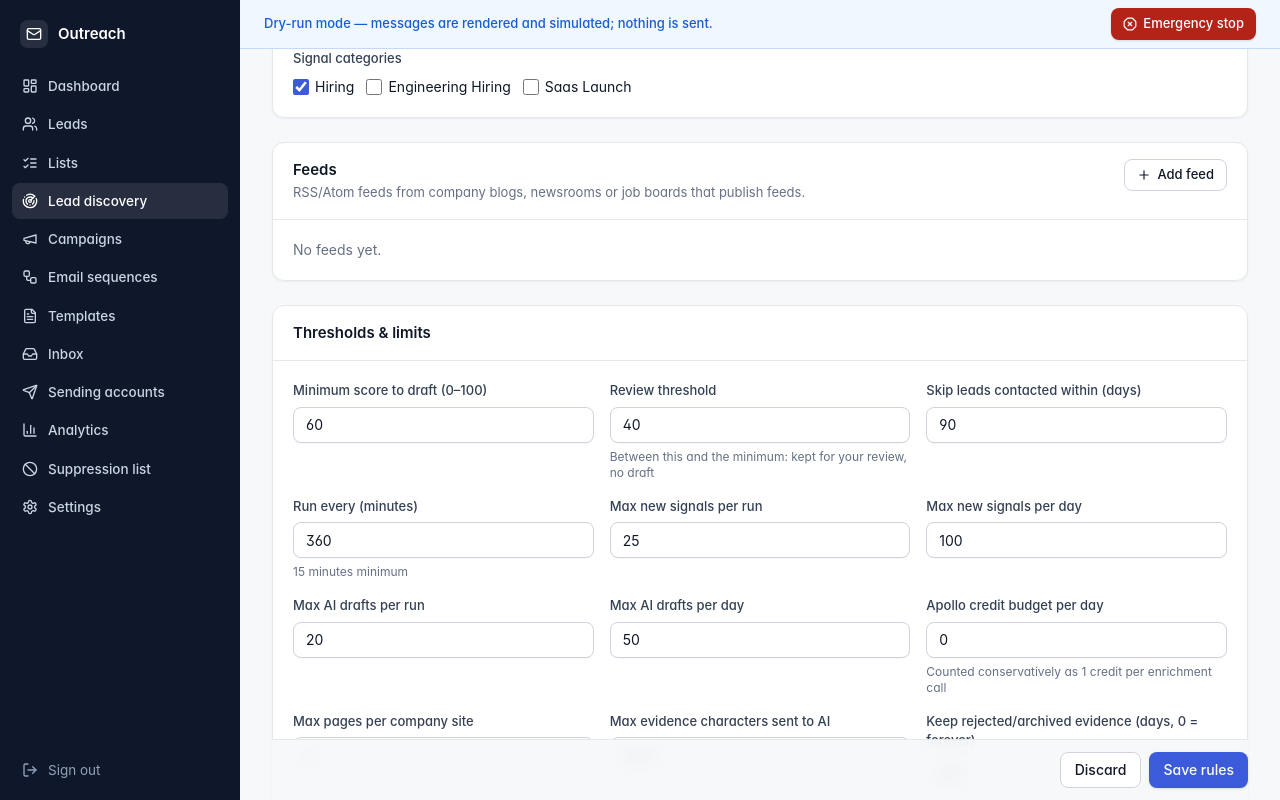
Test case: lead discovery › validates rules before saving
The width and height of the screenshot is (1280, 800).
(page scrolled)
Replace the text in the number field labelled "Minimum score to draft (0–100)" with "20" at (443, 425), box [293,407,594,443]
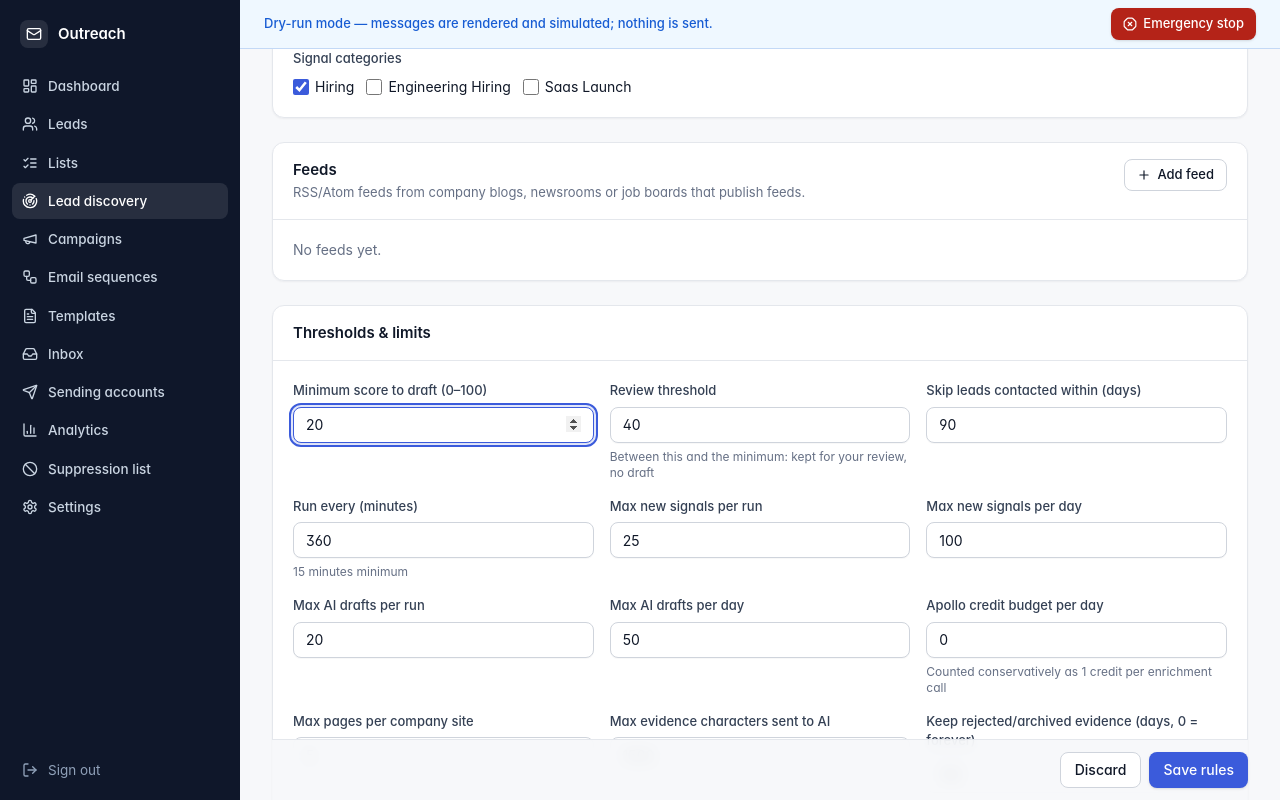
Click the button "Save rules" at (1199, 770), box [1149,752,1248,788]
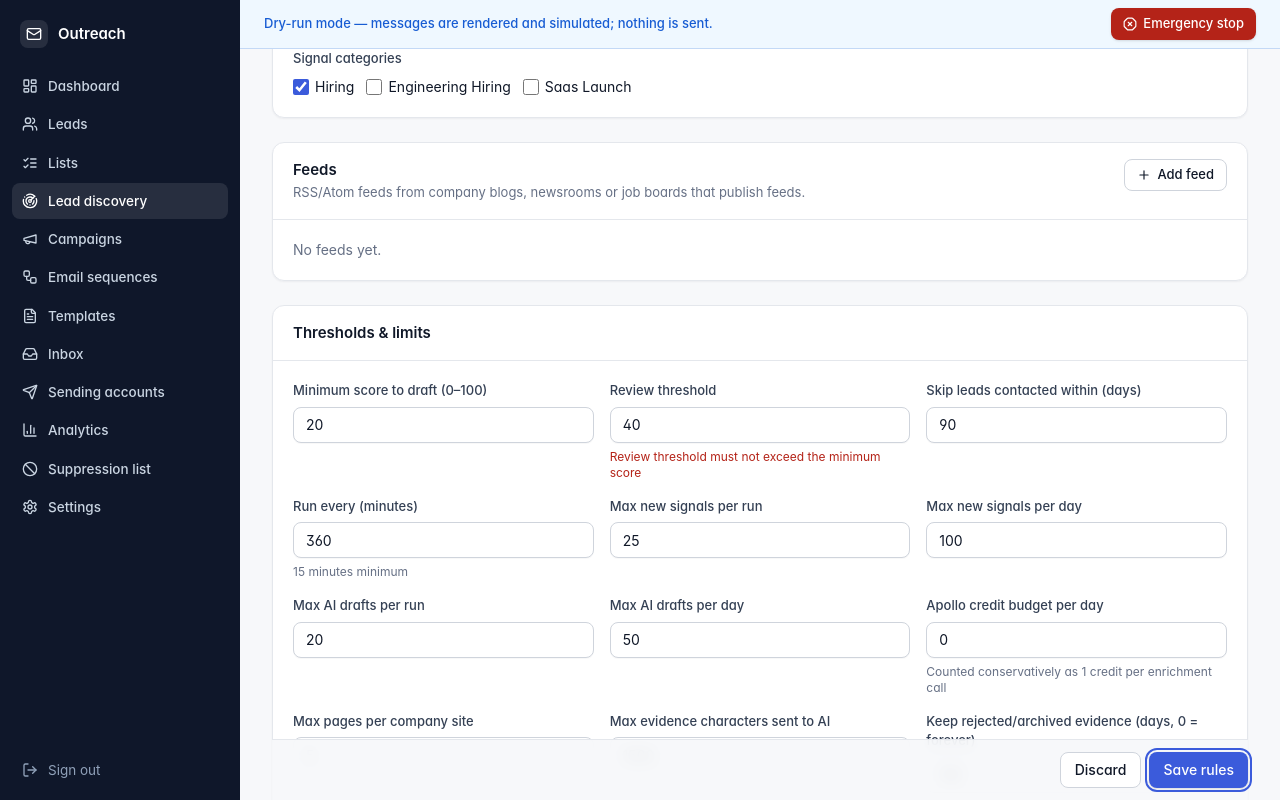
Now the text "Review threshold must not exceed the minimum score" is shown, box [610,449,910,481]
Click the button "Add feed" at (1176, 175), box [1124,159,1227,191]
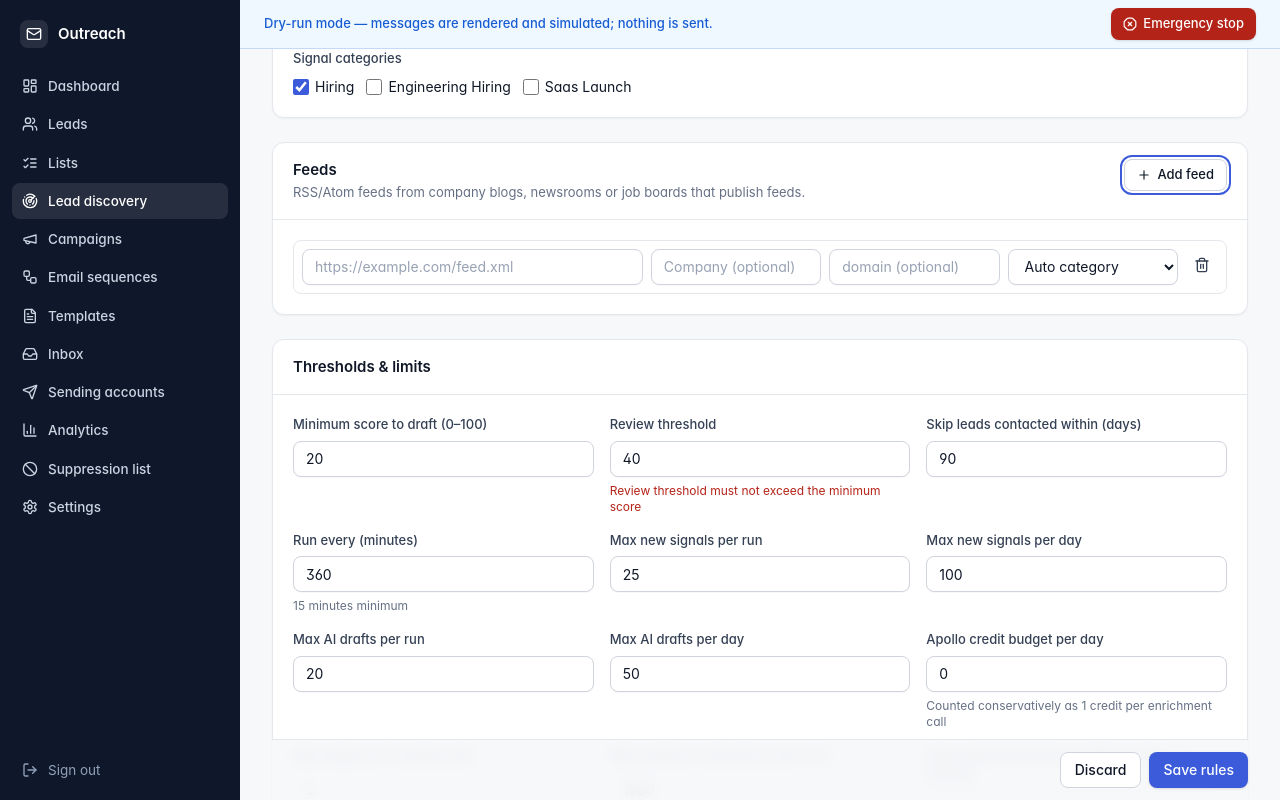
Replace the text in the number field labelled "Minimum score to draft (0–100)" with "60" at (443, 459), box [293,441,594,477]
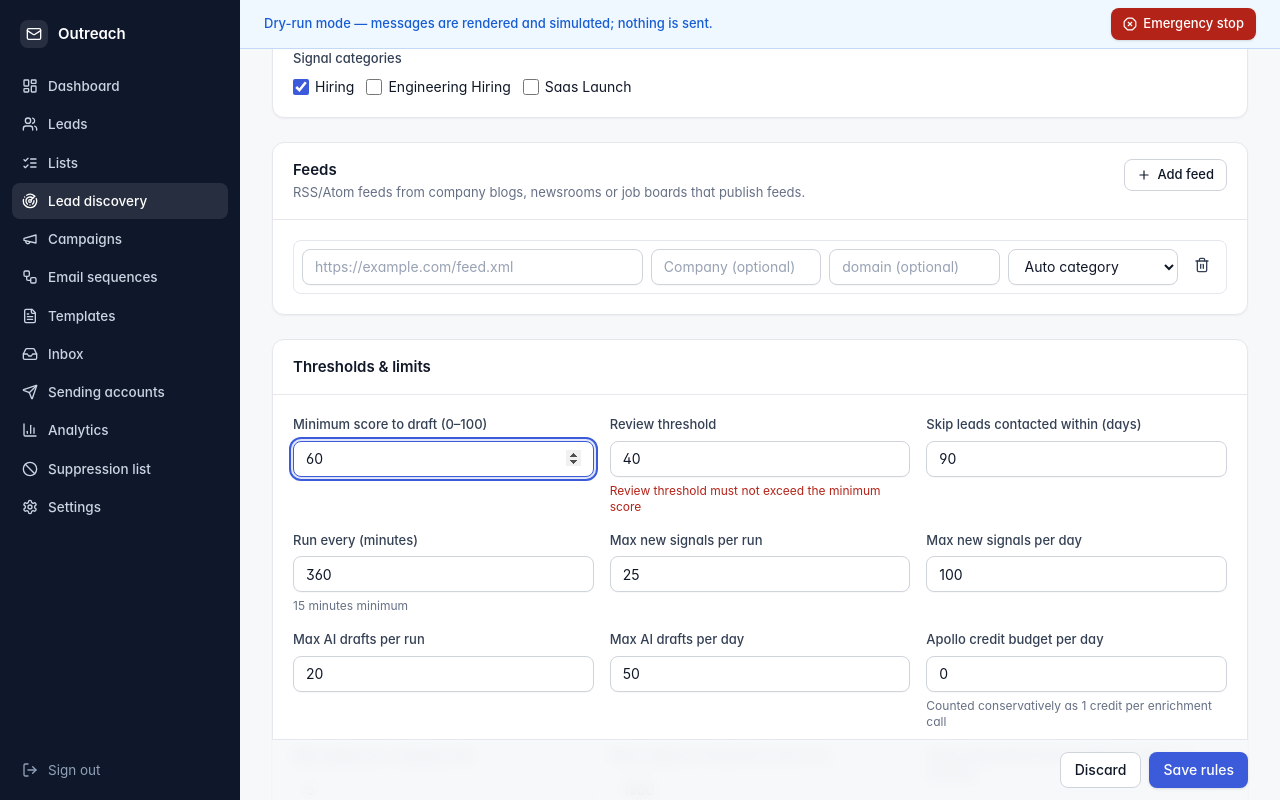
Type "not a url" into the field named "Feed URL" at (472, 267), box [302,249,643,285]
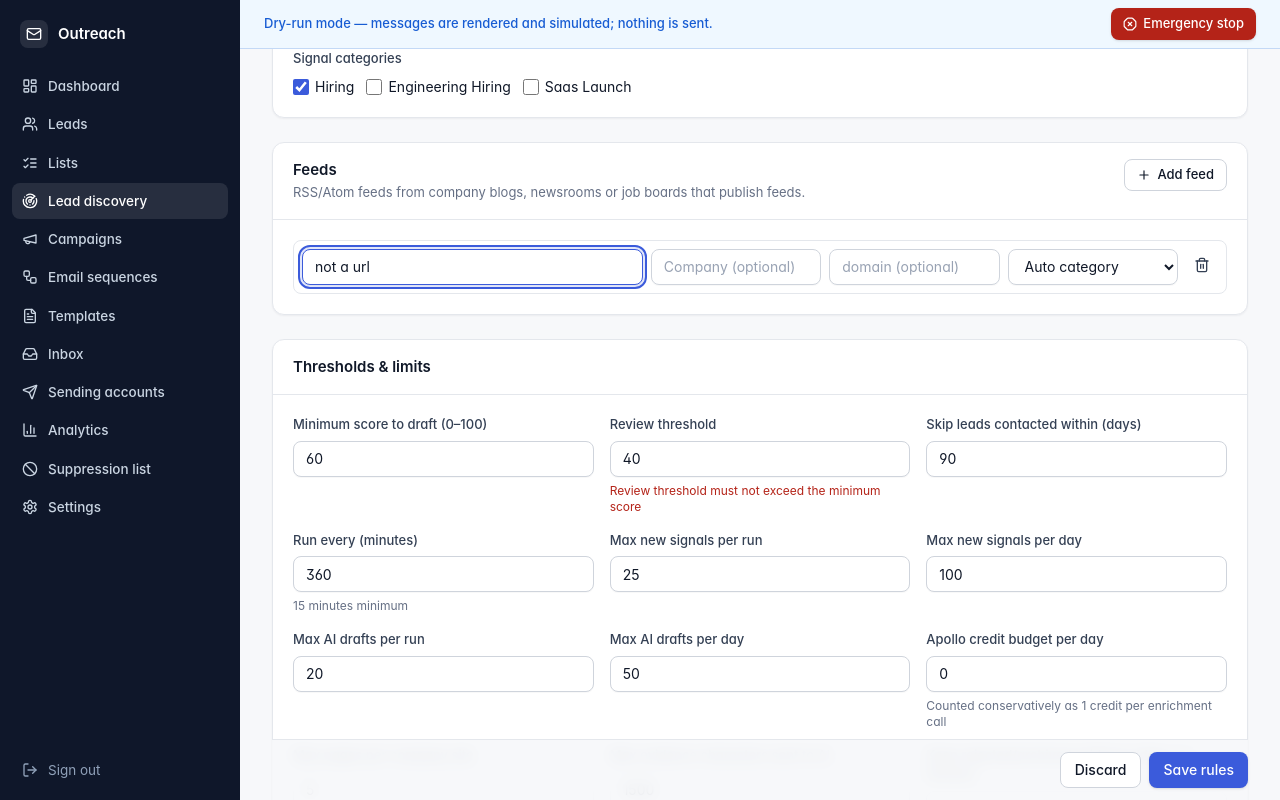
Click the button "Save rules" at (1199, 770), box [1149,752,1248,788]
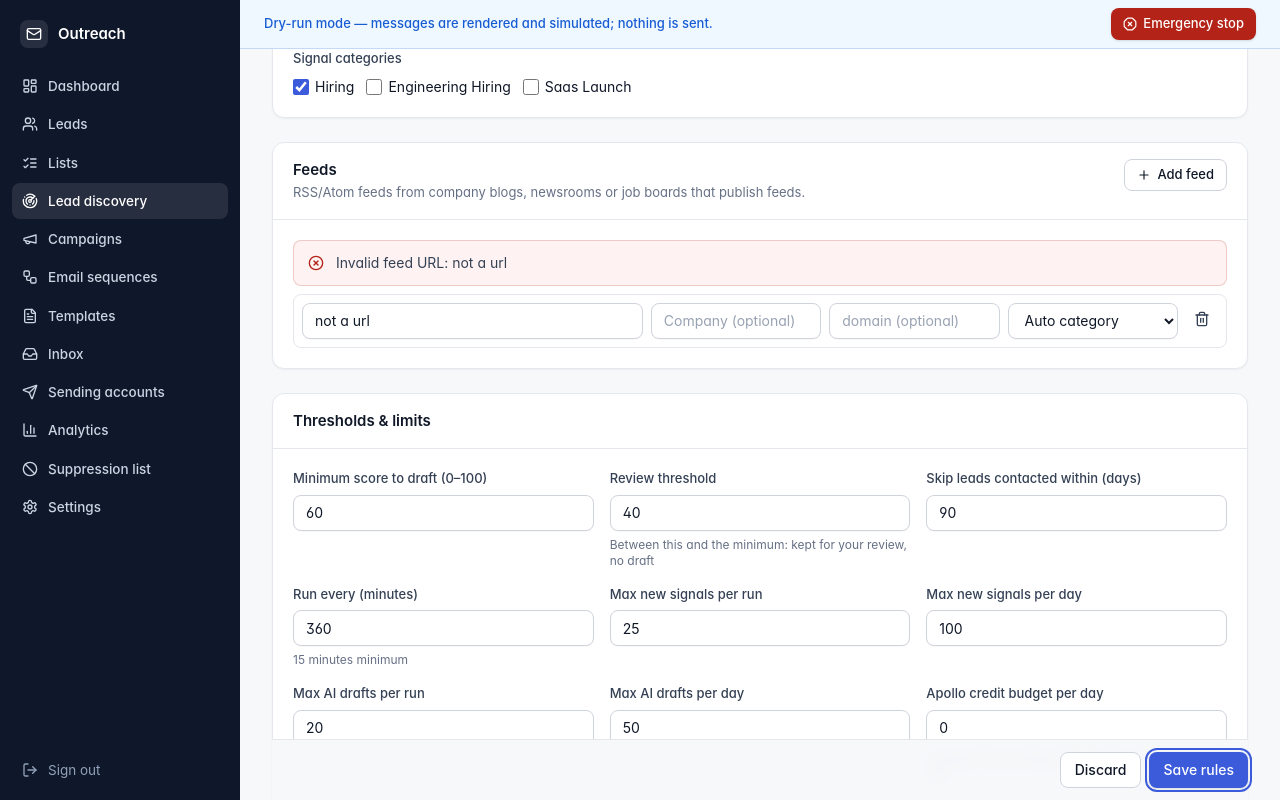
Now the text "Invalid feed URL: not a url" is shown, box [336,253,507,273]
